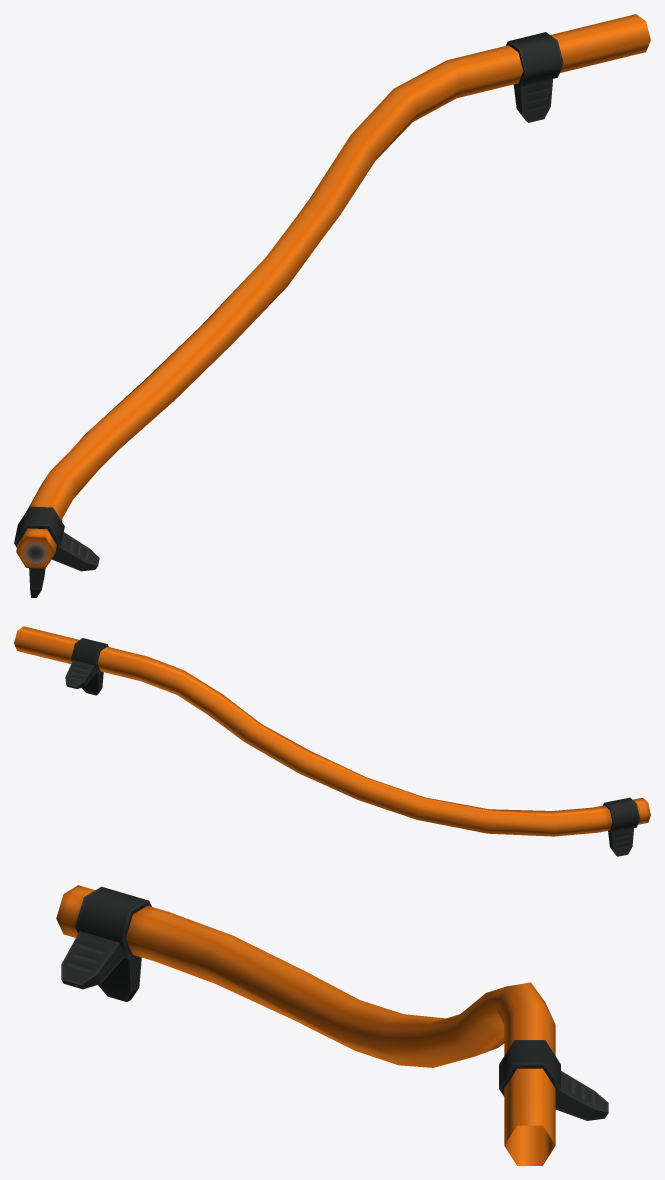
File: jsf_GasRange_06d.fbx
3 views of the same model, one above another, from view 1: azimuth 30°, elevation 25°; view 2: azimuth 150°, elevation 25°; view 3: azimuth 270°, elevation 25° (orthographic). The views are drawn at different scales.
Parts seen in each view (by area): view 1: GasHose; view 2: GasHose; view 3: GasHose.
Boxes of the visible parts, <box> form: GasHose: <box>14,14,650,597</box>; GasHose: <box>14,626,650,856</box>; GasHose: <box>56,885,608,1165</box>.
Bounding box in the file's own units: 41.34 × 13.83 × 19.04.
